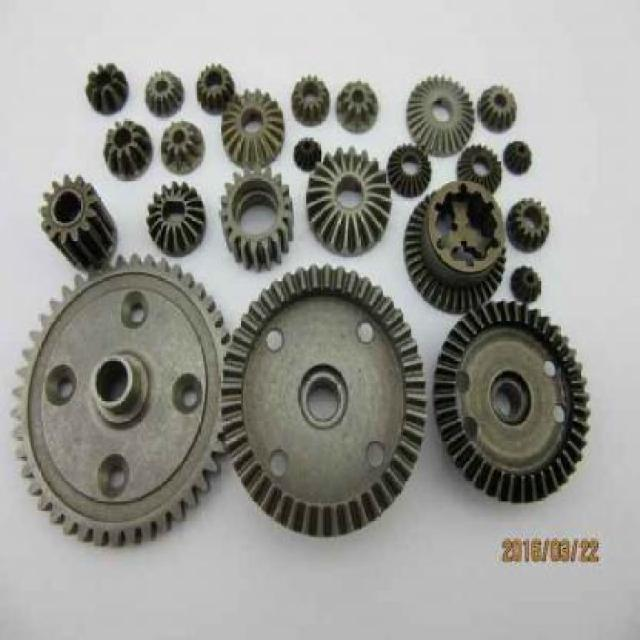Gear: (10, 252, 233, 550), (219, 262, 429, 538), (430, 300, 591, 504), (402, 190, 508, 314), (306, 146, 392, 256), (218, 167, 294, 273), (37, 173, 117, 273), (405, 77, 475, 157), (219, 87, 284, 171), (145, 180, 205, 258), (102, 118, 152, 181), (506, 195, 553, 253), (386, 145, 432, 200), (160, 121, 208, 173), (84, 61, 130, 115), (335, 81, 381, 134), (456, 143, 502, 194), (194, 60, 236, 112), (290, 74, 330, 128), (143, 69, 184, 118), (477, 84, 519, 131), (509, 264, 543, 306), (504, 138, 534, 174), (293, 136, 321, 172)
